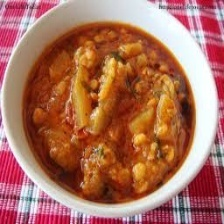sabzi: (16, 18, 201, 213)
